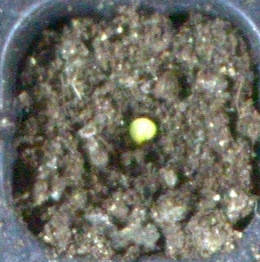chilli seed: (128, 117, 156, 143)
